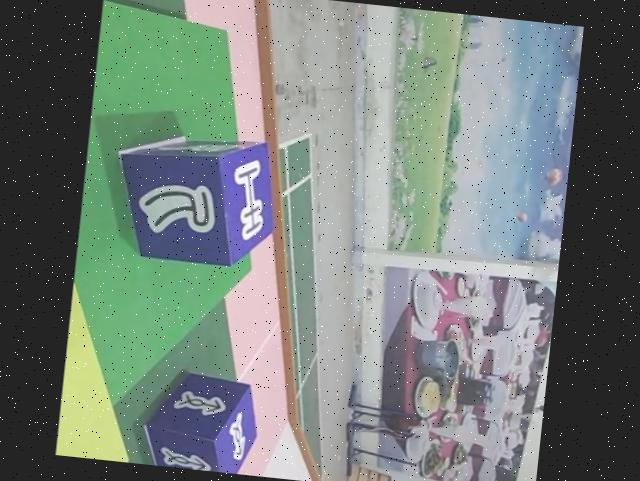R2 Fake Blue: (104, 124, 282, 270)
R2 Real Blue: (138, 365, 264, 476)
